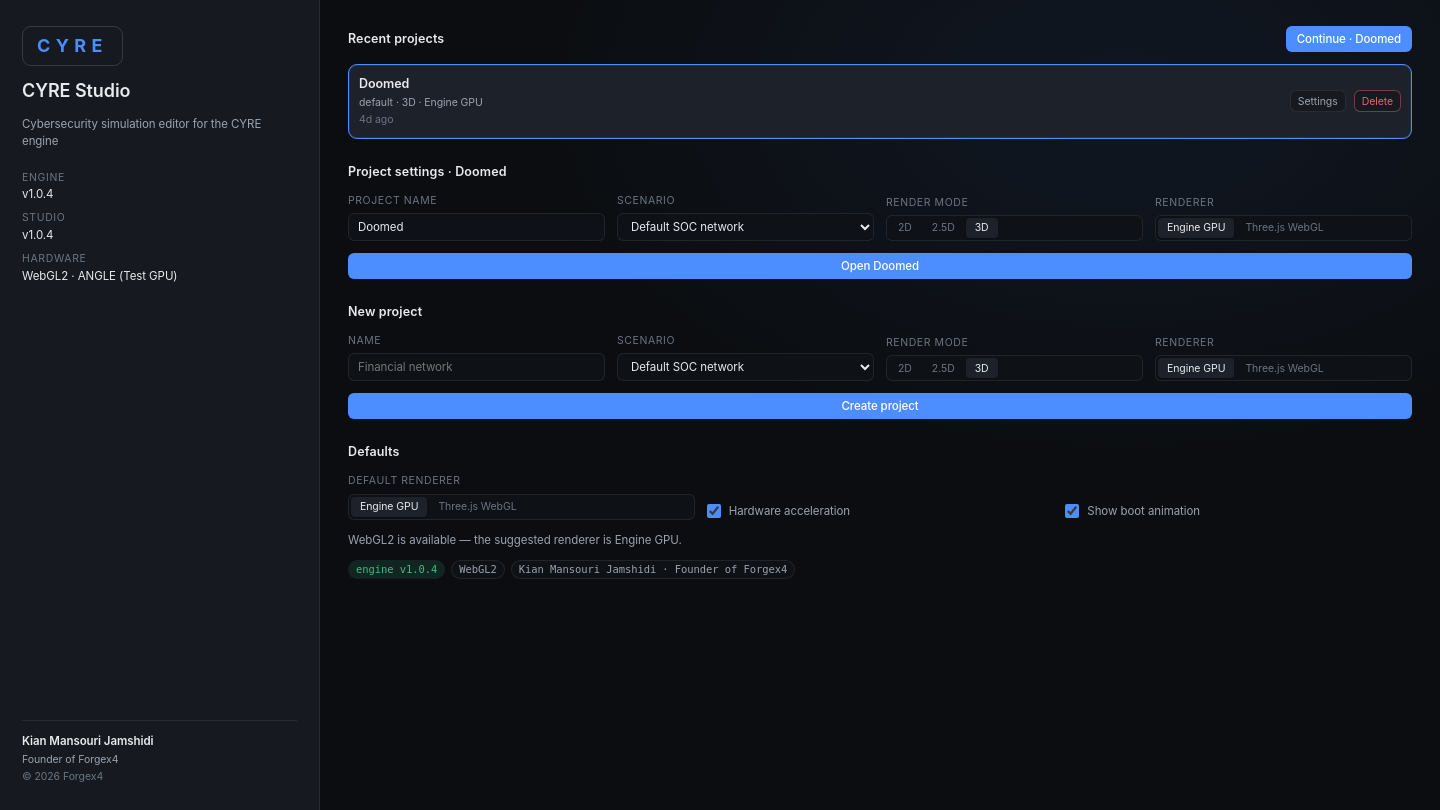
Test case: LauncherApp › deletes a project
Click the button "Delete" at [1377, 101], box [1354, 90, 1401, 112]
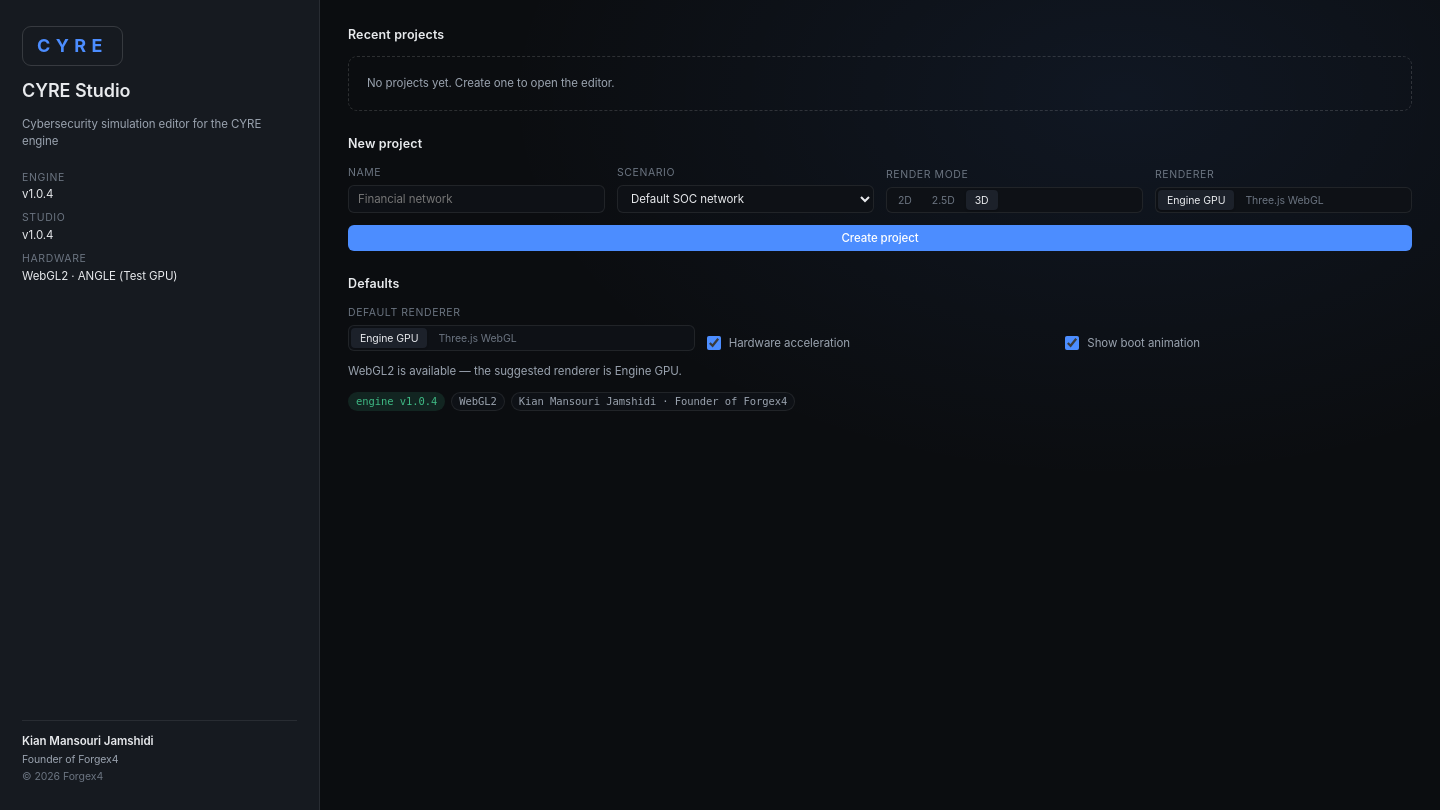
Now the text "No projects yet. Create one to open the editor." is shown, box [348, 56, 1412, 111]
